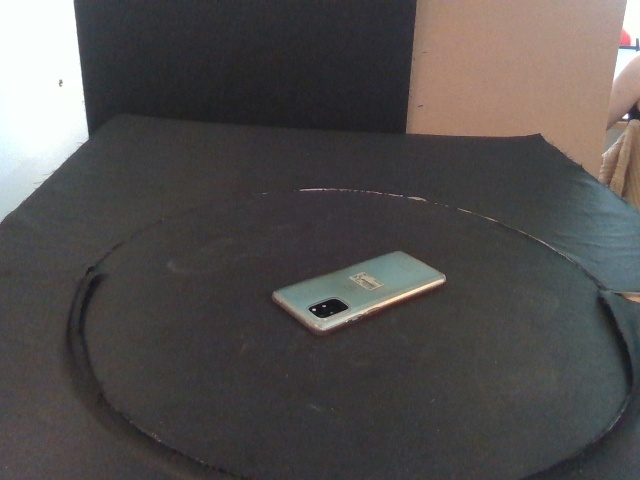phone: (270, 249, 447, 337)
